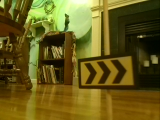right: (79, 56, 137, 87)
